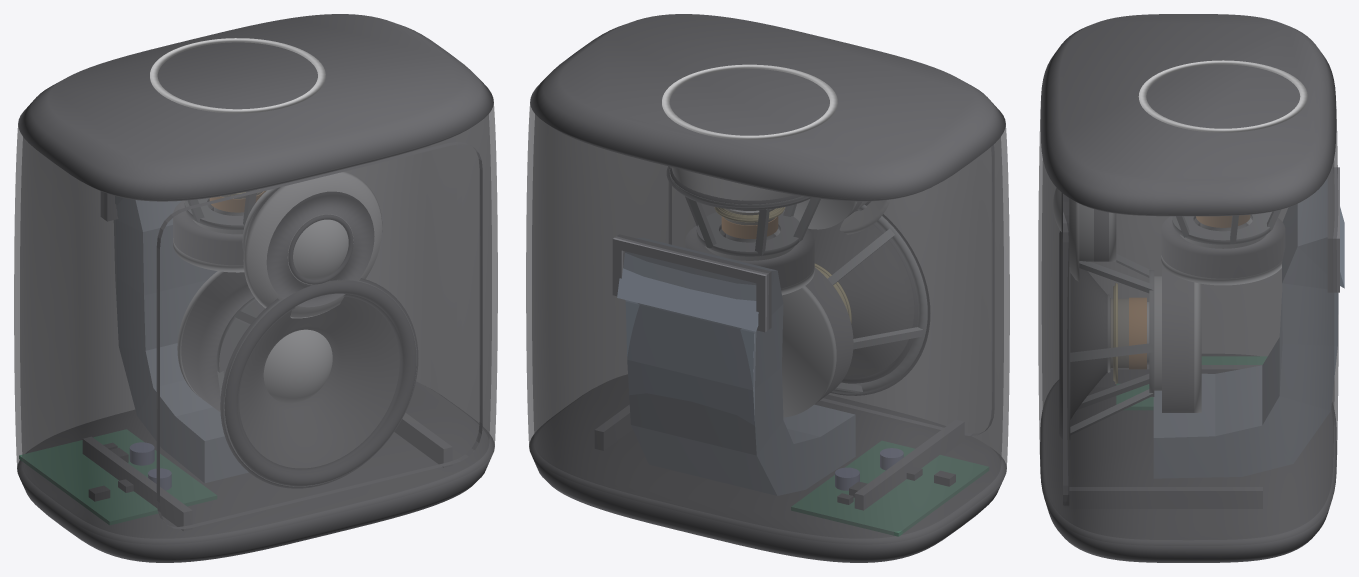
The model's file is bose.glb.
3 renders of one model, left to right at view 1: azimuth 30°, elevation 25°; view 2: azimuth 150°, elevation 25°; view 3: azimuth 270°, elevation 25°, orthographic. The views are drawn at different scales.
Parts seen in each view (by area): view 1: shell_front, top_cap, shell_back, plinth, duct, woofer_cone, woofer_surround, board_amp, baffle, tweeter_waveguide, tweeter_faceplate, woofer_magnet (+8 smaller); view 2: shell_back, top_cap, shell_front, duct, plinth, board_amp, woofer_cone, woofer_backplate, baffle, upfire_basket, port_frame, woofer_basket (+9 smaller); view 3: top_cap, shell_front, shell_back, plinth, duct, baffle, woofer_magnet, upfire_magnet, woofer_cone, woofer_basket, top_grille_ring, upfire_basket (+12 smaller).
Boxes of the visible parts, box(x1,y1,x2,y2) form: shell_front: box(50, 103, 497, 544); top_cap: box(18, 14, 493, 201); shell_back: box(14, 125, 456, 506); plinth: box(17, 381, 494, 562); duct: box(114, 196, 248, 482); woofer_cone: box(239, 297, 399, 467); woofer_surround: box(220, 278, 417, 488); board_amp: box(19, 429, 216, 524); baffle: box(83, 142, 482, 530); tweeter_waveguide: box(243, 172, 381, 317); tweeter_faceplate: box(267, 192, 374, 306); woofer_magnet: box(181, 272, 253, 411); shell_back: box(526, 103, 973, 544); top_cap: box(530, 14, 1005, 201); shell_front: box(567, 125, 1009, 506); duct: box(617, 238, 855, 495); plinth: box(529, 374, 1006, 562); board_amp: box(791, 441, 988, 536); woofer_cone: box(808, 220, 913, 378); woofer_backplate: box(782, 286, 836, 417); baffle: box(595, 145, 993, 510); upfire_basket: box(670, 167, 820, 256); port_frame: box(612, 234, 771, 332); woofer_basket: box(828, 205, 927, 393); top_cap: box(1040, 14, 1336, 215); shell_front: box(1038, 101, 1188, 545); shell_back: box(1188, 101, 1338, 545); plinth: box(1040, 354, 1336, 562); duct: box(1154, 178, 1344, 478); baffle: box(1063, 194, 1262, 508); woofer_magnet: box(1162, 265, 1193, 412); upfire_magnet: box(1161, 216, 1284, 278); woofer_cone: box(1070, 268, 1107, 418); woofer_basket: box(1069, 254, 1153, 439); top_grille_ring: box(1138, 60, 1307, 132); upfire_basket: box(1172, 210, 1280, 244).
Size of the model in its own units: 184 by 167 by 123.
